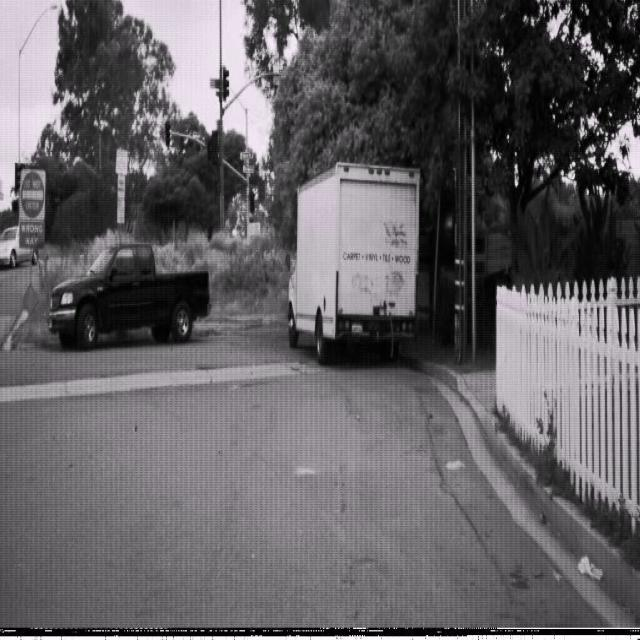doNotEnter: (20, 168, 44, 221)
